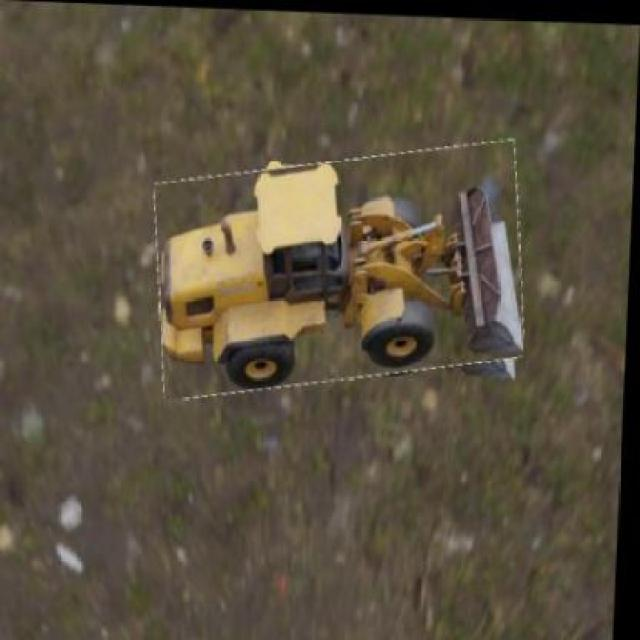buldozerpayloadergrader: (161, 168, 524, 387)
